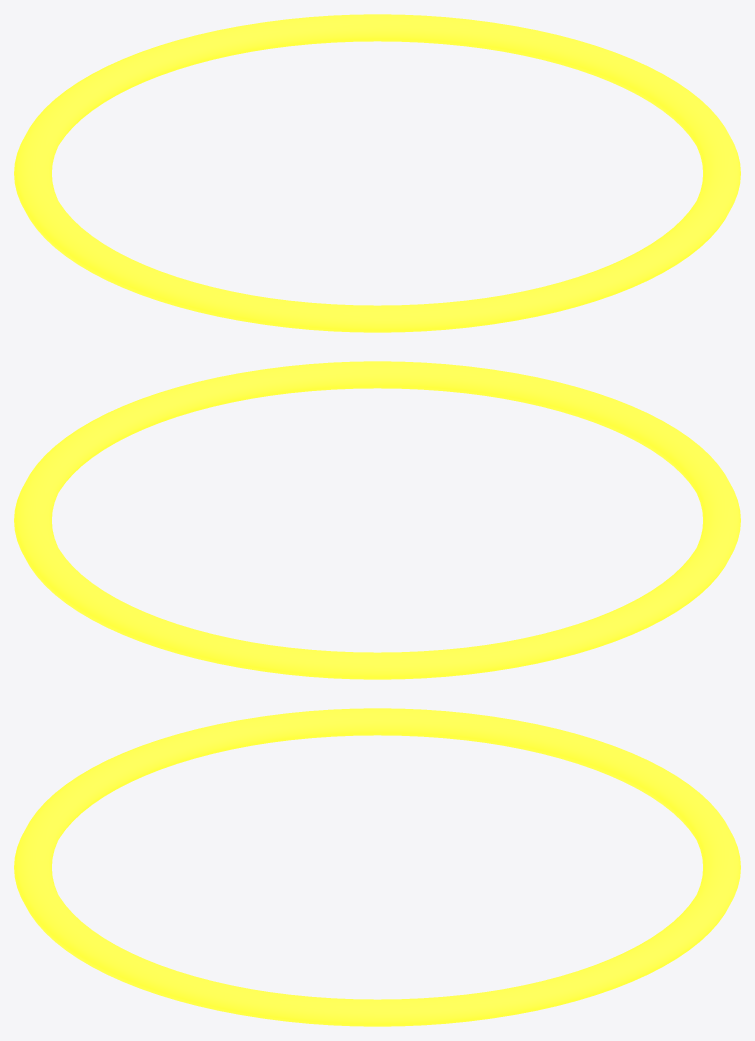
File: FG_PadRingGold.fbx
3 views of the same model, one above another, from view 1: azimuth 30°, elevation 25°; view 2: azimuth 150°, elevation 25°; view 3: azimuth 270°, elevation 25° (orthographic).
Visible parts, largest first — view 1: FG_PadRingGold; view 2: FG_PadRingGold; view 3: FG_PadRingGold.
Part boxes in pixels (x1=…): FG_PadRingGold: x1=14, y1=14, x2=740, y2=332; FG_PadRingGold: x1=14, y1=361, x2=740, y2=679; FG_PadRingGold: x1=14, y1=708, x2=740, y2=1026.
Bounding box in the file's own units: 9.6 × 0.3234 × 9.6.
